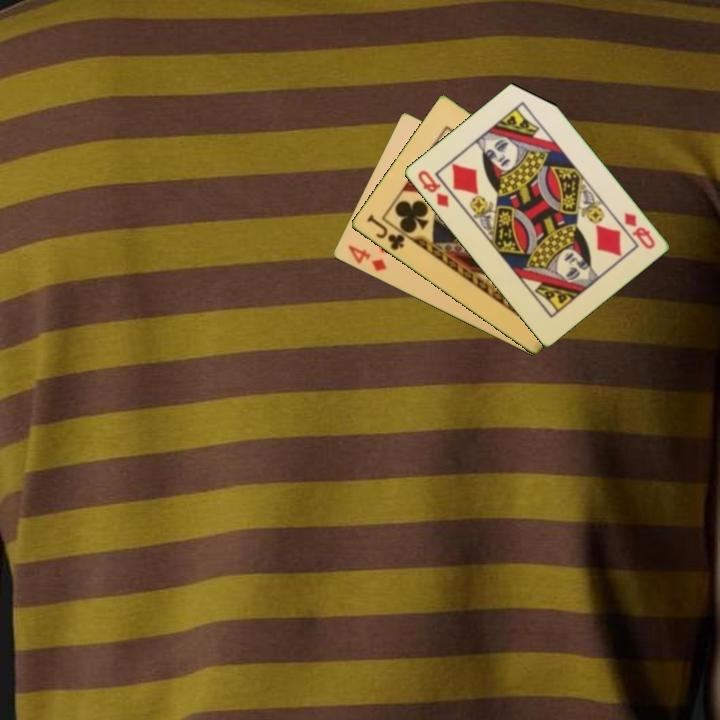4d: (344, 242, 389, 274)
Jc: (362, 211, 408, 254)
Qd: (414, 167, 452, 211), (620, 209, 658, 252)
